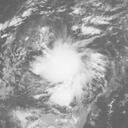cyclone: (33, 39, 99, 97)
